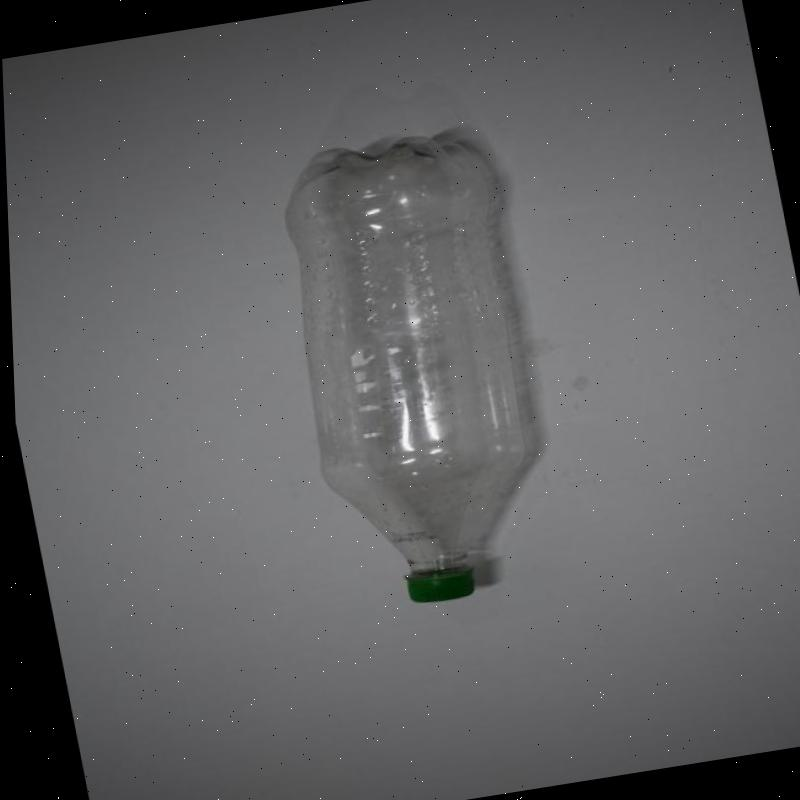botella: (257, 125, 575, 618)
